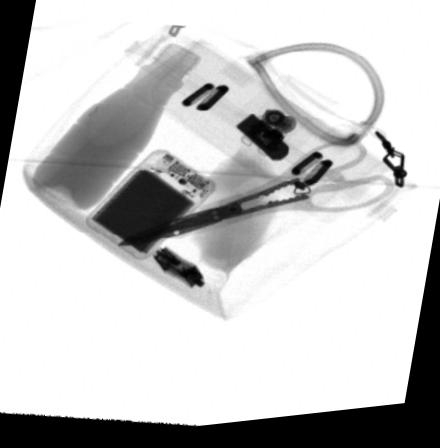Powerbank: (84, 152, 215, 262)
Scissors: (113, 142, 394, 249)
